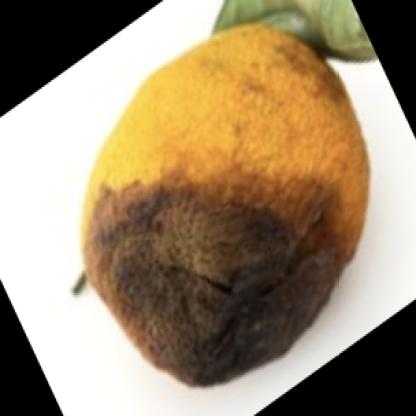rotten: (84, 26, 371, 387)
